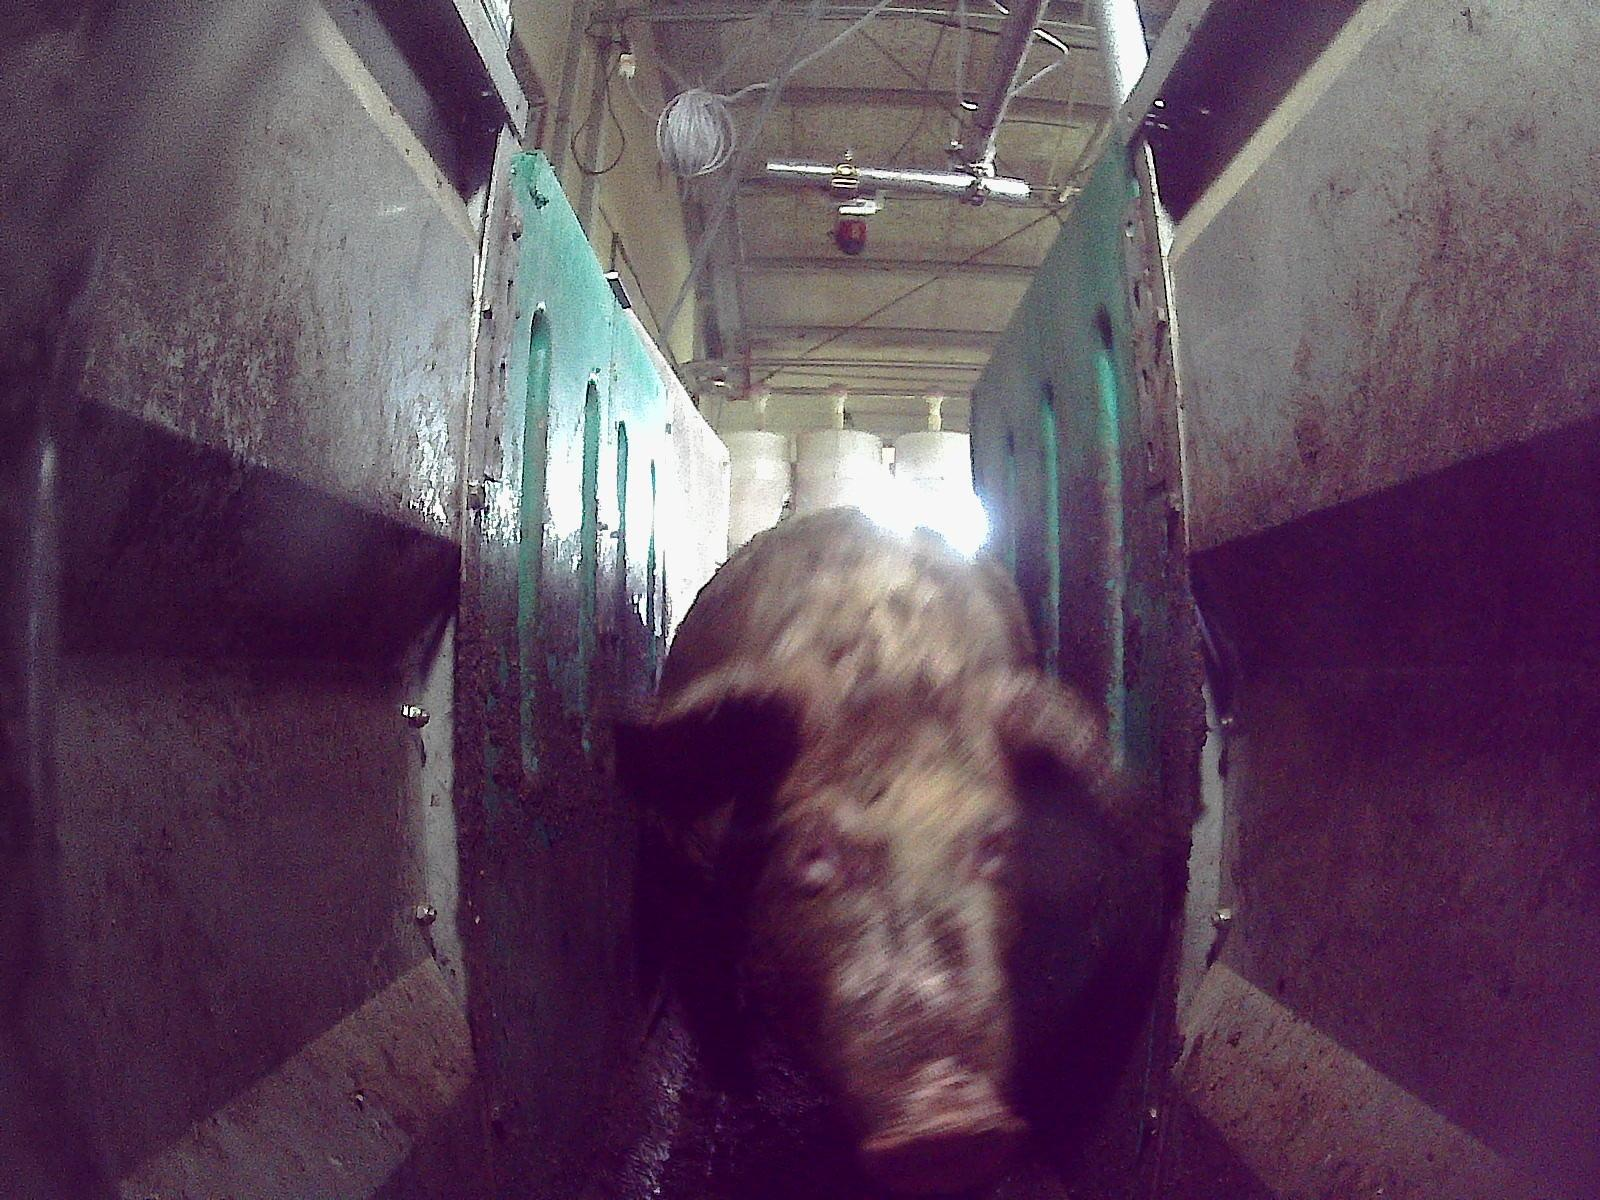Face: (747, 662, 1029, 1191)
